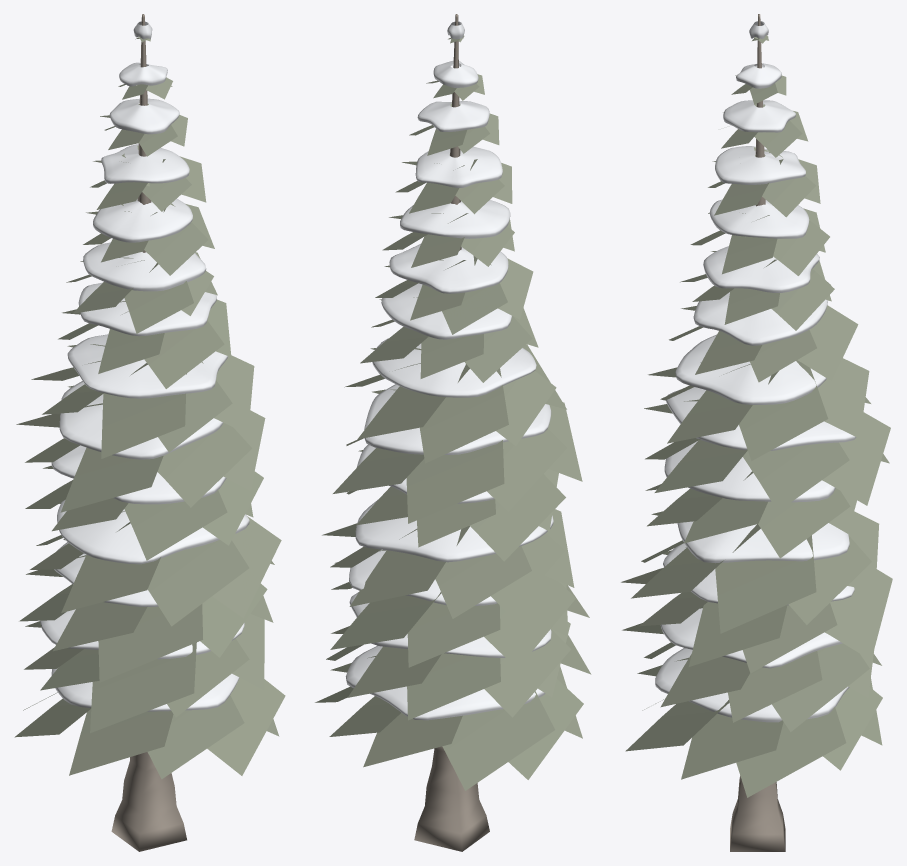
File: fir_601.glb
The picture shows the model from 3 angles, left to right: view 1: azimuth 30°, elevation 25°; view 2: azimuth 150°, elevation 25°; view 3: azimuth 270°, elevation 25°; orthographic projection.
Parts seen in each view (by area): view 1: fir_601_boughs, fir_601_snow, fir_601_limbs; view 2: fir_601_boughs, fir_601_snow, fir_601_limbs; view 3: fir_601_boughs, fir_601_snow, fir_601_limbs.
Boxes of the visible parts, x1,y1,x2,y2 form: fir_601_boughs: [14, 36, 285, 779]; fir_601_snow: [40, 21, 249, 711]; fir_601_limbs: [111, 14, 186, 851]; fir_601_boughs: [315, 36, 591, 790]; fir_601_snow: [345, 21, 553, 720]; fir_601_limbs: [414, 14, 489, 851]; fir_601_boughs: [621, 35, 892, 797]; fir_601_snow: [655, 21, 856, 722]; fir_601_limbs: [730, 14, 785, 851].
Size of the model in its own units: 5.97 by 19.9 by 5.98.
